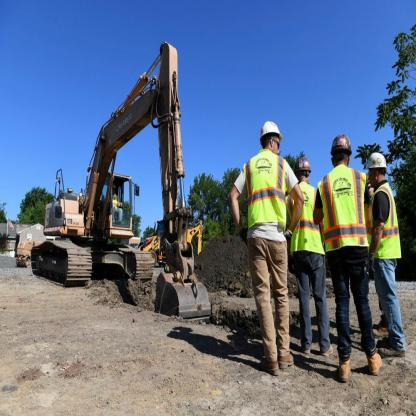excavator: (30, 20, 216, 335)
person: (222, 108, 295, 377), (310, 110, 380, 384), (362, 132, 410, 374), (286, 148, 321, 362)
